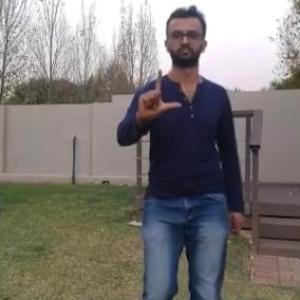land_hand: (134, 66, 183, 124)
